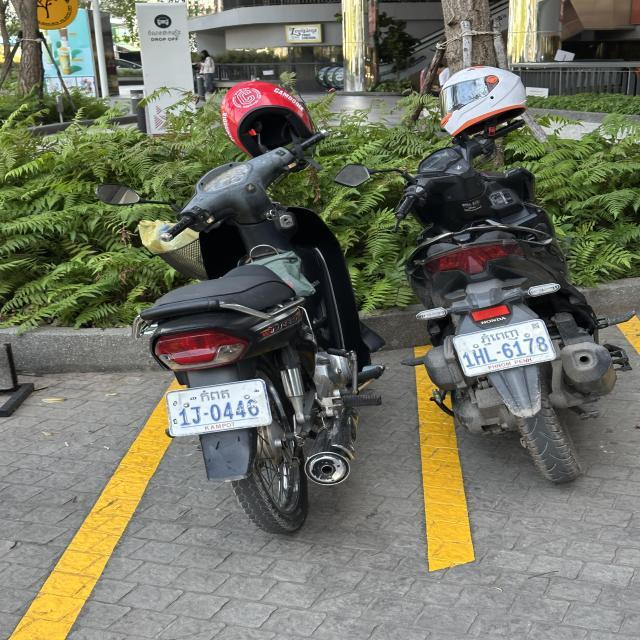Kampot: (199, 386, 236, 403)
